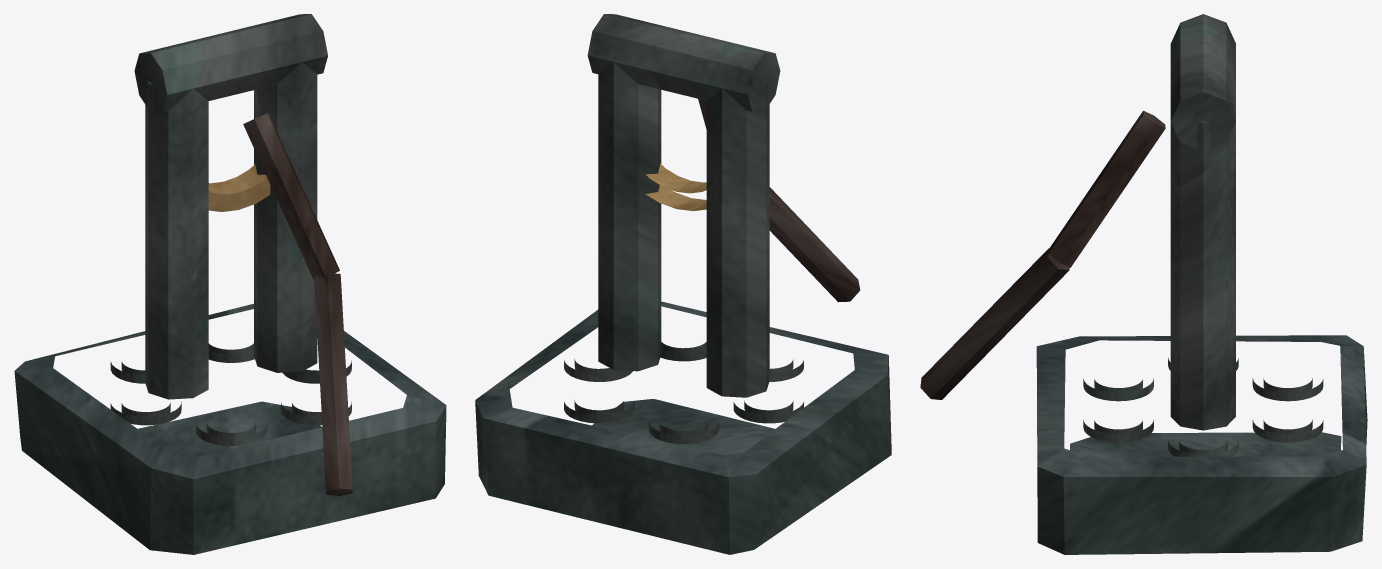
File: 0683_rope_anchor_08.glb
3 views of the same model, side by side, from view 1: azimuth 30°, elevation 25°; view 2: azimuth 150°, elevation 25°; view 3: azimuth 270°, elevation 25° (orthographic).
Parts seen in each view (by area): view 1: stone_dark, iron, wood_dark, brass; view 2: iron, stone_dark, wood_dark, brass; view 3: stone_dark, iron, wood_dark.
Boxes of the visible parts, x1,y1,x2,y2 form: stone_dark: (14,303,446,554); iron: (110,14,351,445); wood_dark: (243,113,352,495); brass: (208,164,270,211); iron: (564,14,803,443); stone_dark: (475,301,891,554); wood_dark: (698,99,860,302); brass: (645,163,706,211); stone_dark: (1036,335,1367,554); iron: (1083,14,1323,456); wood_dark: (920,110,1165,399).
Bounding box in the file's own units: 1.23 × 1.78 × 1.65.
4 materials, 4 textured.
